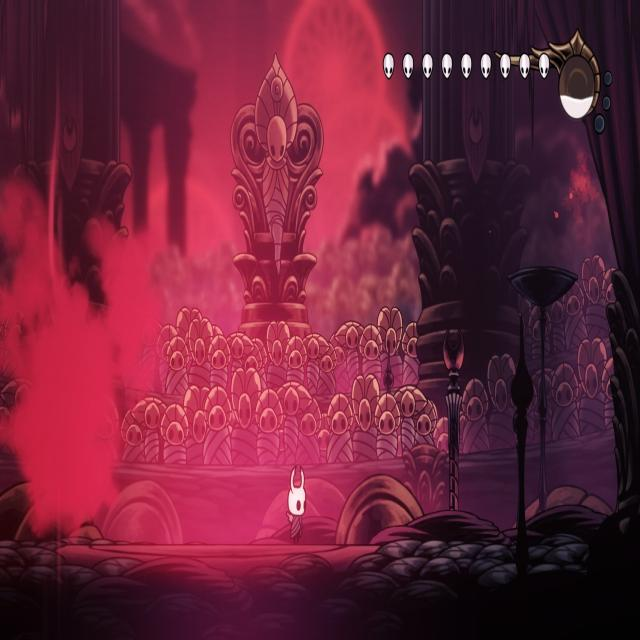Player: (284, 462, 308, 546)
